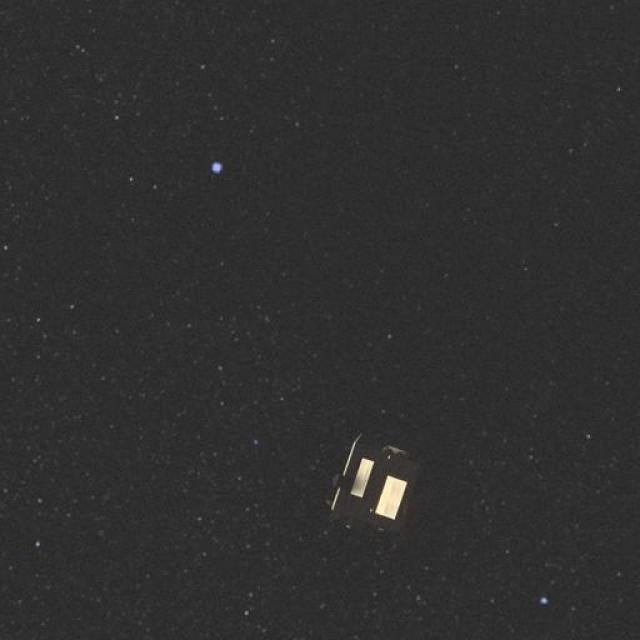proba_3_ocs: (283, 392, 447, 567)
